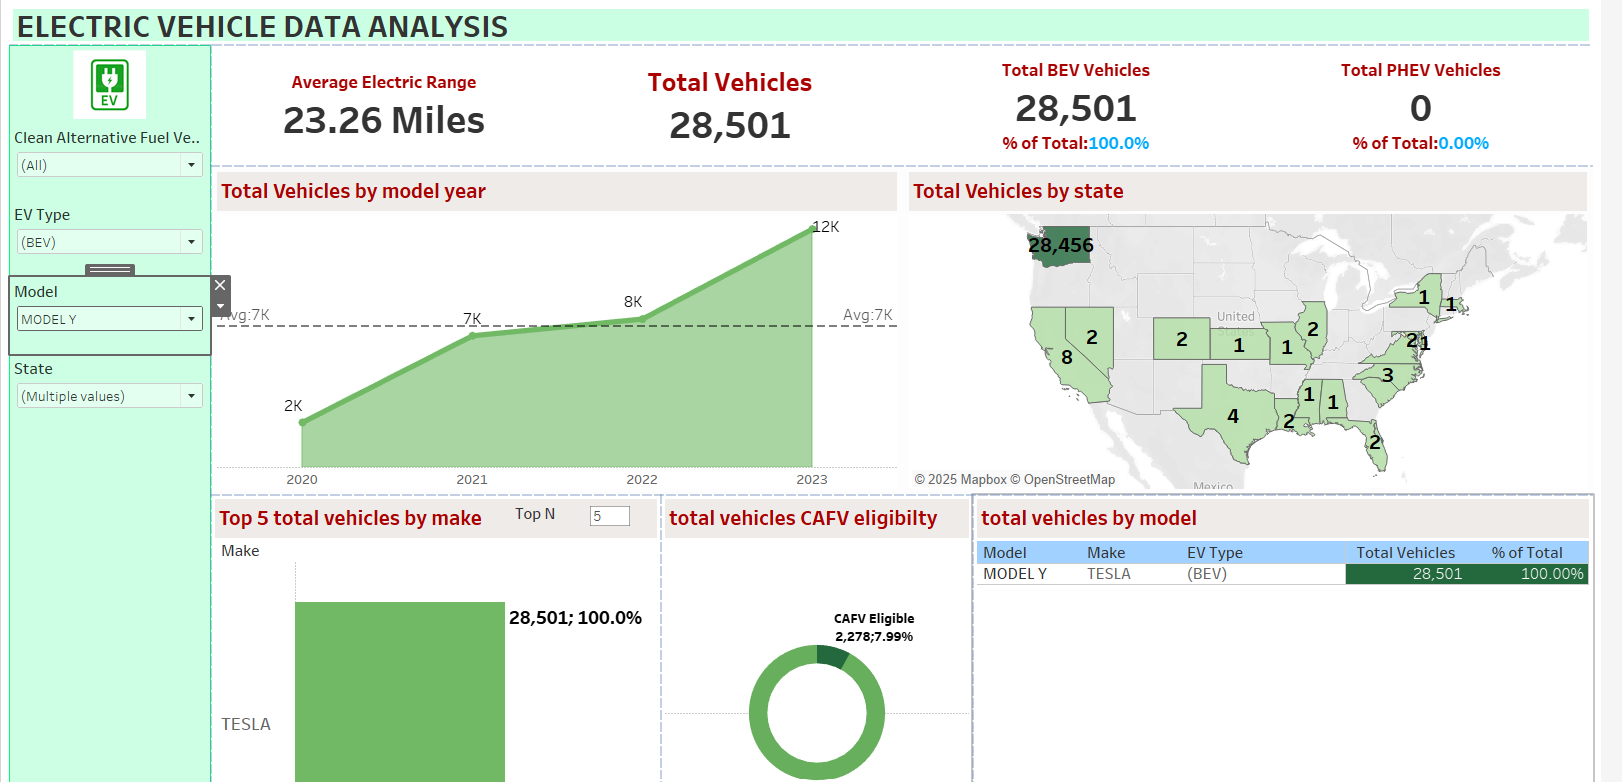

The page's visual inventory and layout, read from the dashboard file:
{"tool":"tableau","page":{"name":"ELECTRIC VEHICLE DATA ANALYSIS","canvas":[1600,900],"ordinal":0},"visuals":[{"type":"title","box":[8,8,1584,40]},{"type":"worksheet","title":"average electric range","mark":"Automatic","box":[210,48,346,121]},{"type":"worksheet","title":"total vehicles","mark":"Automatic","box":[556,48,346,121]},{"type":"worksheet","title":"total BEV vehicles","mark":"Automatic","box":[902,48,345,121]},{"type":"worksheet","title":"total PHEV vehicles ","mark":"Automatic","box":[1247,48,345,121]},{"type":"image","param":"Image/download.png","box":[9,49,200,77]},{"type":"filter","title":"Total Vehicles by model year","param":"[federated.01rdx6m1gg19xk1blyqg60uifln7].[none:Clean Alternative Fuel Vehicle (C","box":[9,126,200,77]},{"type":"worksheet","title":"Total Vehicles by model year","mark":"Area","rows":["Calculation_632474340250247168","Calculation_632474340250247168"],"cols":["Model Year"],"box":[210,169,692,329]},{"type":"worksheet","title":"Total Vehicles by state","mark":"Multipolygon","box":[902,169,690,329]},{"type":"filter","title":"Total Vehicles by model year","param":"[federated.01rdx6m1gg19xk1blyqg60uifln7].[none:Electric Vehicle Type:nk]","box":[9,203,200,77]},{"type":"filter","title":"Total Vehicles by model year","param":"[federated.01rdx6m1gg19xk1blyqg60uifln7].[none:Model:nk]","box":[9,280,200,77]},{"type":"filter","title":"Total Vehicles by model year","param":"[federated.01rdx6m1gg19xk1blyqg60uifln7].[none:State:nk]","box":[9,357,200,77]},{"type":"blank","box":[9,434,200,77]},{"type":"worksheet","title":"Top 10 total vehicles by make","mark":"Automatic","rows":["Make"],"cols":["Calculation_632474340250247168"],"box":[210,498,450,394]},{"type":"worksheet","title":"total vehicles CAFV eligibilty","mark":"Pie","rows":["Calculation_632474340311818251","Calculation_632474340311818251"],"box":[660,498,312,394]},{"type":"worksheet","title":"total vehicles by model","mark":"Square","rows":["Model","Make","Electric Vehicle Type"],"box":[972,498,620,394]},{"type":"parameter","param":"[Parameters].[Parameter 1]","box":[514,506,118,28]},{"type":"blank","box":[9,511,200,76]},{"type":"blank","box":[9,587,200,76]},{"type":"blank","box":[9,663,200,76]},{"type":"blank","box":[9,739,200,76]},{"type":"blank","box":[9,815,200,76]}]}

Visuals, with their boxes on the page's 1600x900 design canvas (x1, y1, x2, y2). These are canvas units, not pixel positions in the 1622x782 screenshot, which may show the page scaled, cropped or inside an application window:
title: 8/8/1592/48
"average electric range" worksheet: 210/48/556/169
"total vehicles" worksheet: 556/48/902/169
"total BEV vehicles" worksheet: 902/48/1247/169
"total PHEV vehicles " worksheet: 1247/48/1592/169
image: 9/49/209/126
"Total Vehicles by model year" filter: 9/126/209/203
"Total Vehicles by model year" worksheet (Area marks): 210/169/902/498
"Total Vehicles by state" worksheet (Multipolygon marks): 902/169/1592/498
"Total Vehicles by model year" filter: 9/203/209/280
"Total Vehicles by model year" filter: 9/280/209/357
"Total Vehicles by model year" filter: 9/357/209/434
blank: 9/434/209/511
"Top 10 total vehicles by make" worksheet: 210/498/660/892
"total vehicles CAFV eligibilty" worksheet (Pie marks): 660/498/972/892
"total vehicles by model" worksheet (Square marks): 972/498/1592/892
parameter: 514/506/632/534
blank: 9/511/209/587
blank: 9/587/209/663
blank: 9/663/209/739
blank: 9/739/209/815
blank: 9/815/209/891
